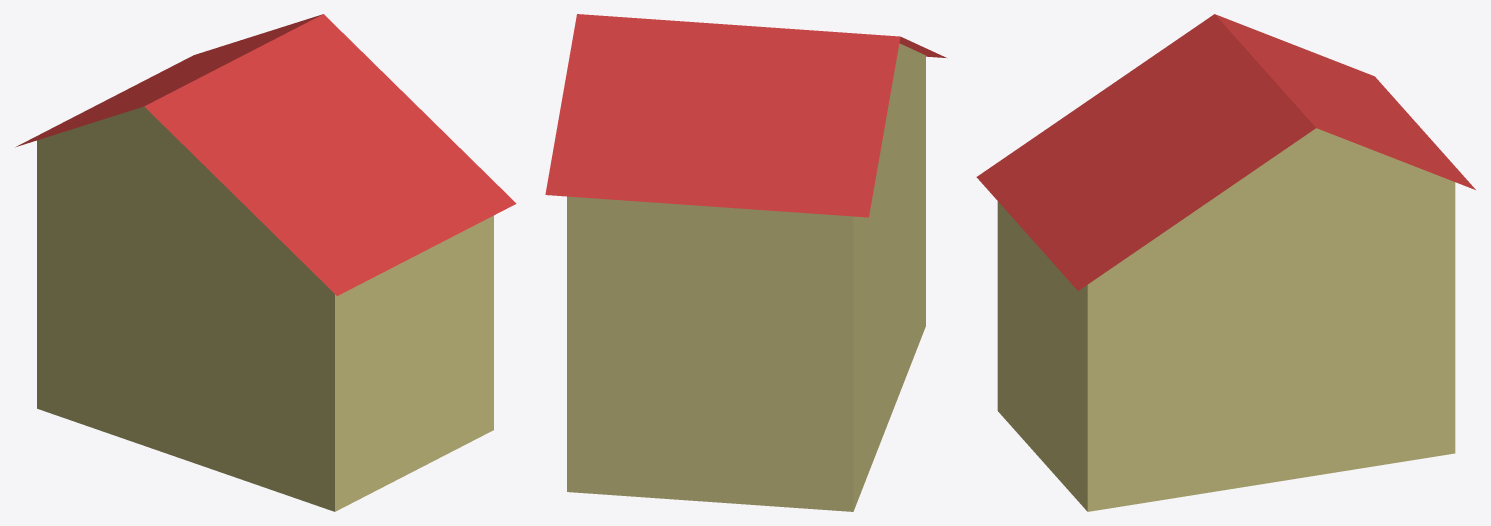
The picture shows the model from 3 angles, left to right: view 1: azimuth 30°, elevation 25°; view 2: azimuth 150°, elevation 25°; view 3: azimuth 270°, elevation 25°; orthographic projection. The views are drawn at different scales.
Bounding box in the file's own units: 12.78 × 15.22 × 11.92.
